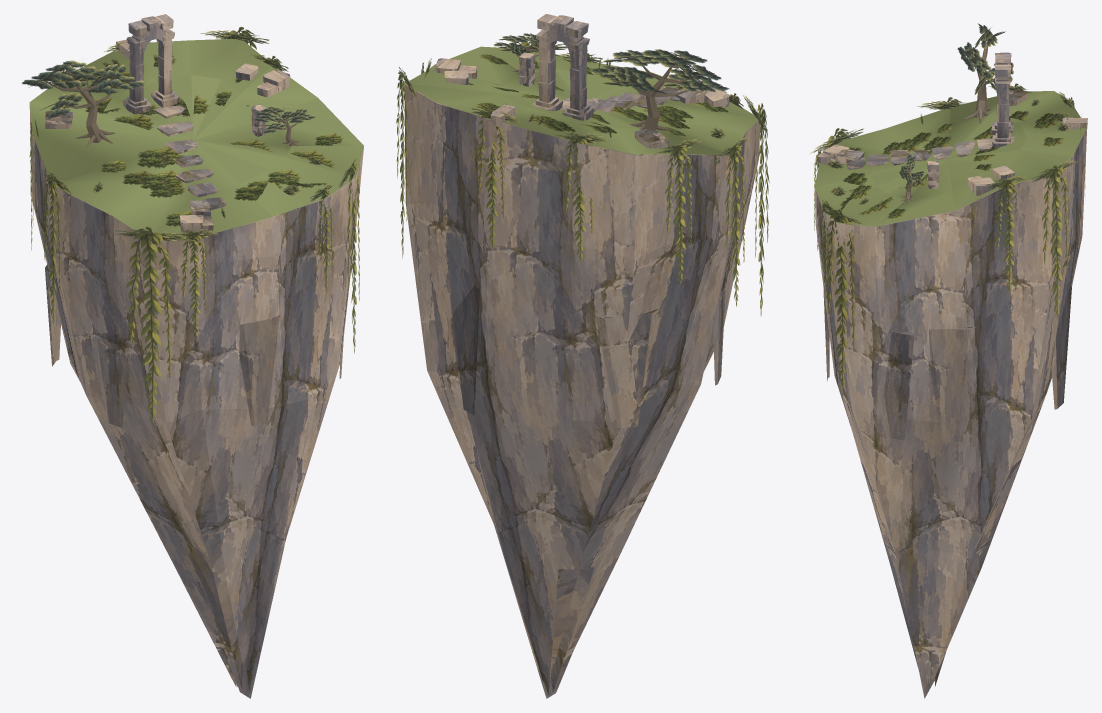
File: high-buttress.glb
3 views of the same model, side by side, from view 1: azimuth 30°, elevation 25°; view 2: azimuth 150°, elevation 25°; view 3: azimuth 270°, elevation 25° (orthographic). The views are drawn at different scales.
Parts seen in each view (by area): view 1: high-buttress-continuous-fractured-stone, high-buttress-summit-soil-and-bent-trunks, high-buttress-ruins-path-and-splintered-ledges, high-buttress-painted-pine-ivy-and-moss, high-buttress-long-hanging-vine-quads; view 2: high-buttress-continuous-fractured-stone, high-buttress-ruins-path-and-splintered-ledges, high-buttress-summit-soil-and-bent-trunks, high-buttress-long-hanging-vine-quads, high-buttress-painted-pine-ivy-and-moss; view 3: high-buttress-continuous-fractured-stone, high-buttress-summit-soil-and-bent-trunks, high-buttress-ruins-path-and-splintered-ledges, high-buttress-painted-pine-ivy-and-moss, high-buttress-long-hanging-vine-quads.
Part boxes in pixels (<box>): high-buttress-continuous-fractured-stone: <box>29,104,363,698</box>; high-buttress-summit-soil-and-bent-trunks: <box>29,39,363,239</box>; high-buttress-ruins-path-and-splintered-ledges: <box>45,14,343,427</box>; high-buttress-painted-pine-ivy-and-moss: <box>22,30,357,241</box>; high-buttress-long-hanging-vine-quads: <box>29,27,359,422</box>; high-buttress-continuous-fractured-stone: <box>404,84,760,698</box>; high-buttress-ruins-path-and-splintered-ledges: <box>434,14,729,428</box>; high-buttress-summit-soil-and-bent-trunks: <box>405,42,758,155</box>; high-buttress-long-hanging-vine-quads: <box>396,35,769,315</box>; high-buttress-painted-pine-ivy-and-moss: <box>399,33,767,164</box>; high-buttress-continuous-fractured-stone: <box>814,128,1087,698</box>; high-buttress-summit-soil-and-bent-trunks: <box>814,38,1086,226</box>; high-buttress-ruins-path-and-splintered-ledges: <box>817,52,1087,442</box>; high-buttress-painted-pine-ivy-and-moss: <box>810,23,1081,224</box>; high-buttress-long-hanging-vine-quads: <box>814,83,1085,389</box>.
Size of the model in its own units: 22.9 by 50.9 by 21.42.
Materials: 4 (3 with a texture image).
